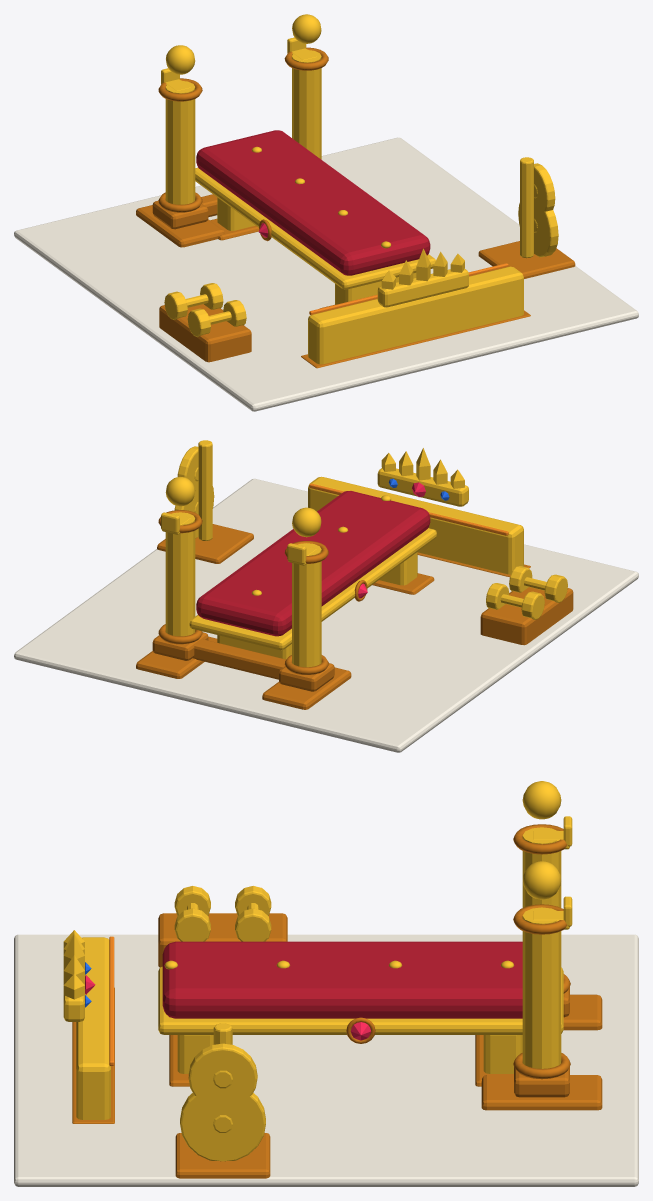
File: Bench_Or.fbx
3 views of the same model, one above another, from view 1: azimuth 30°, elevation 25°; view 2: azimuth 150°, elevation 25°; view 3: azimuth 270°, elevation 25° (orthographic). The views are drawn at different scales.
Parts seen in each view (by area): view 1: Marble, Gold, Velvet, DeepGold; view 2: Marble, Gold, Velvet, DeepGold, Glow.001; view 3: Marble, Gold, Velvet, DeepGold, Glow.001.
Part boxes in pixels (x1,y1,x2,y2): Marble: [14, 137, 638, 411]; Gold: [161, 14, 558, 364]; Velvet: [196, 130, 430, 275]; DeepGold: [136, 47, 575, 368]; Marble: [14, 478, 638, 752]; Gold: [161, 440, 567, 667]; Velvet: [196, 491, 430, 636]; DeepGold: [136, 510, 573, 709]; Glow.001: [309, 483, 508, 535]; Marble: [14, 934, 638, 1186]; Gold: [63, 781, 572, 1161]; Velvet: [162, 941, 522, 1018]; DeepGold: [72, 824, 602, 1178]; Glow.001: [109, 936, 114, 1065].
Bounding box in the file's own units: 13.5 × 6.21 × 14.5.
